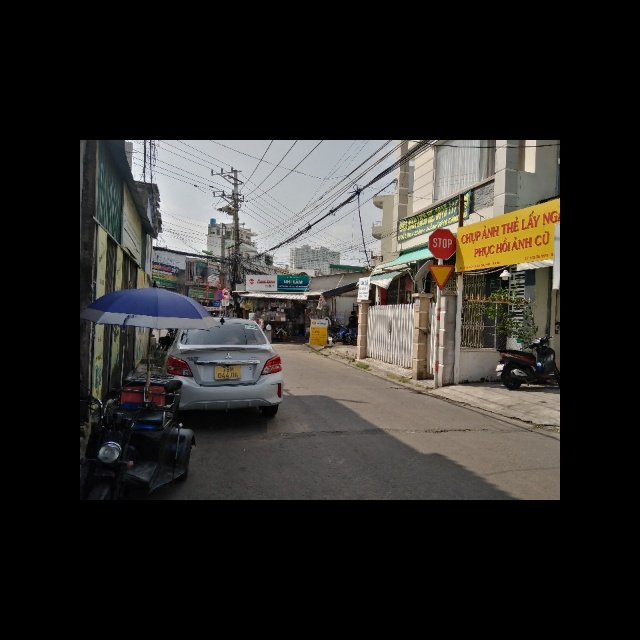Dừng lại: (426, 227, 457, 259)
Giao nhau với đường ưu tiên: (424, 263, 454, 290)
